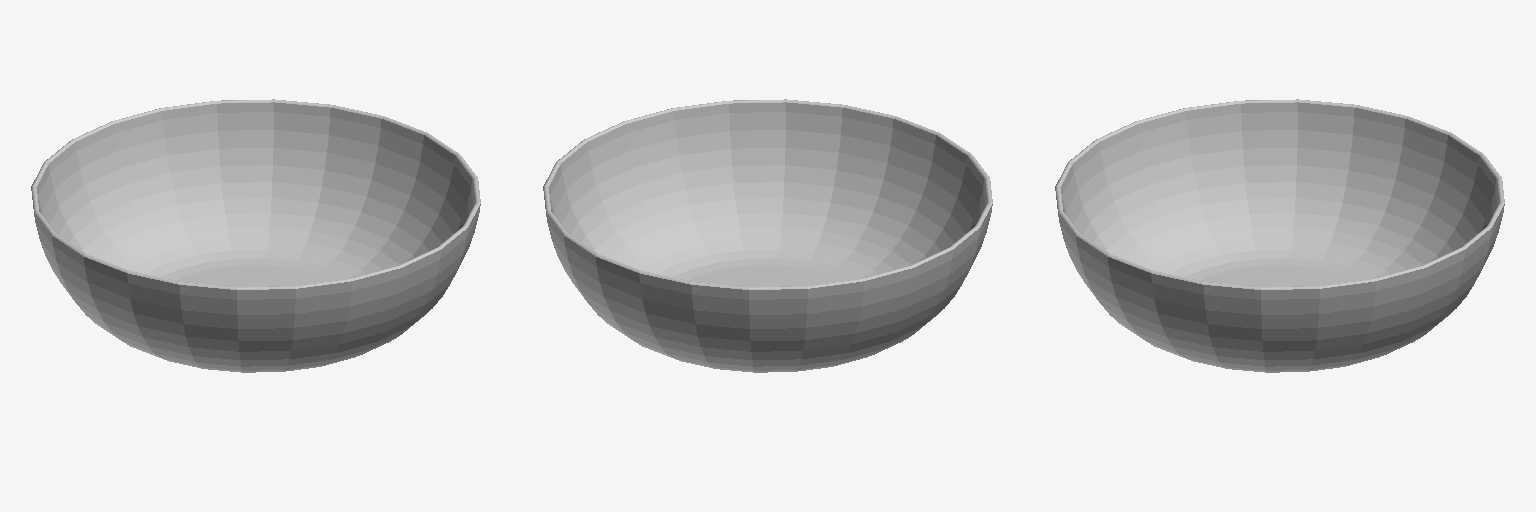
The model's file is Material Culture_flat basket.obj.
3 views of the same model, side by side, from view 1: azimuth 30°, elevation 25°; view 2: azimuth 150°, elevation 25°; view 3: azimuth 270°, elevation 25° (orthographic).
Parts seen in each view (by area): view 1: Mesh1 Group1 Model; view 2: Mesh1 Group1 Model; view 3: Mesh1 Group1 Model.
Boxes of the visible parts, x1,y1,x2,y2 form: Mesh1 Group1 Model: [31, 99, 480, 372]; Mesh1 Group1 Model: [543, 99, 992, 372]; Mesh1 Group1 Model: [1055, 99, 1504, 372].
Size of the model in its own units: 69.69 by 21.35 by 69.69.